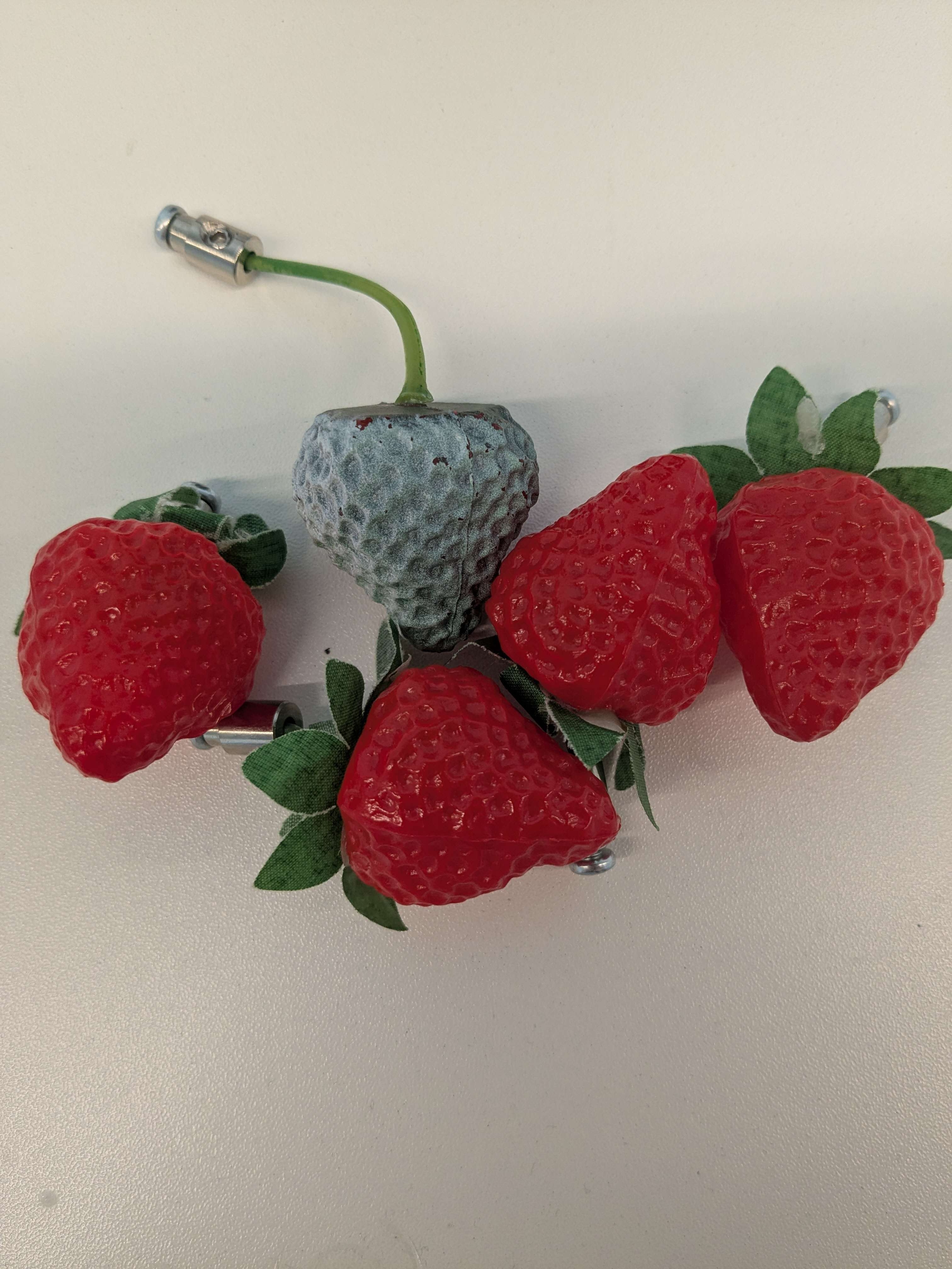Strawberry: (0, 489, 284, 795), (326, 651, 629, 911), (719, 467, 943, 760), (508, 452, 746, 720)
